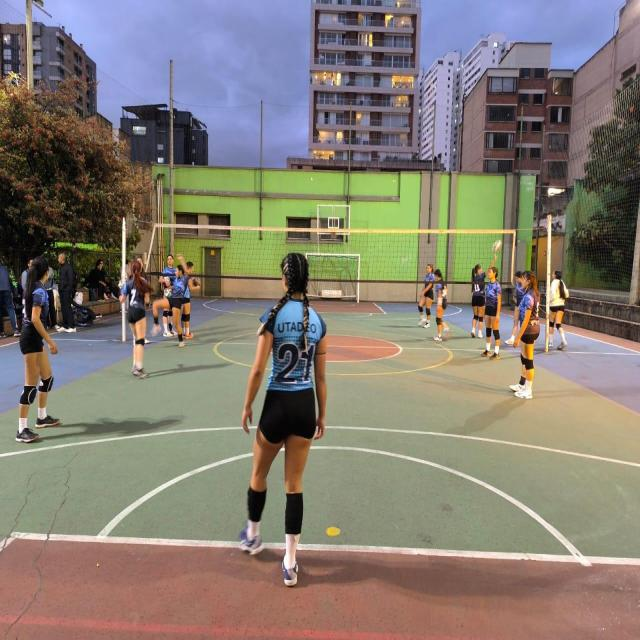volleyball: (164, 288, 172, 299), (193, 278, 201, 287)
